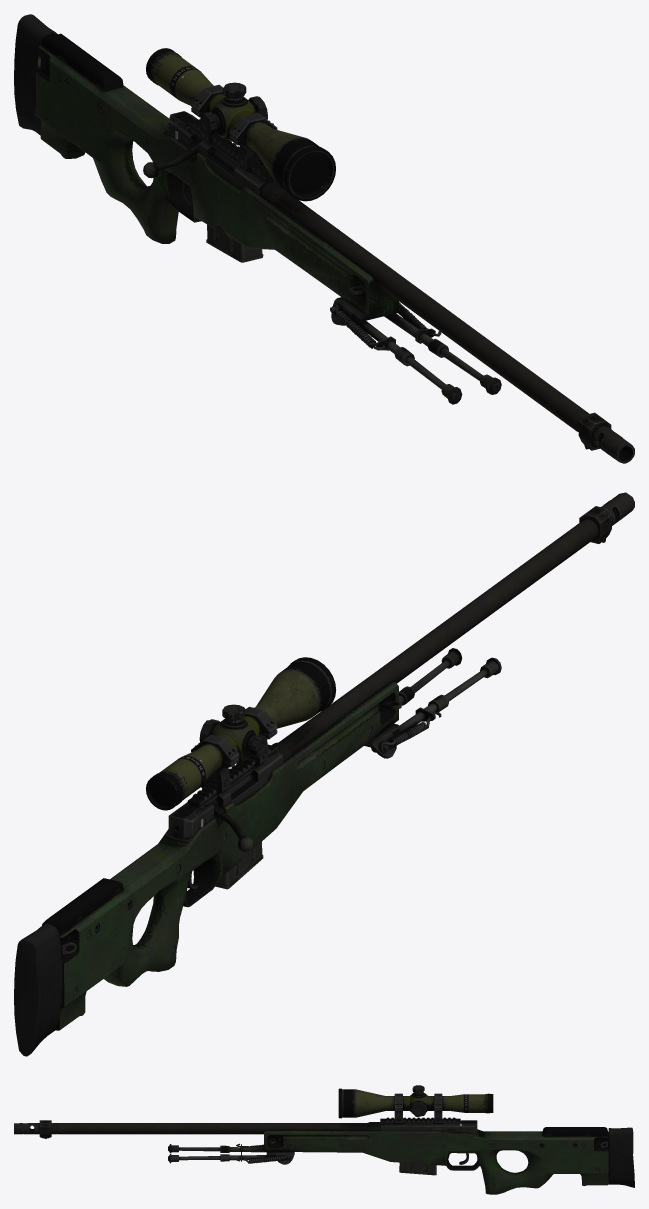
File: awp.glb
The picture shows the model from 3 angles, top to bottom: view 1: azimuth 30°, elevation 25°; view 2: azimuth 150°, elevation 25°; view 3: azimuth 270°, elevation 25°; orthographic projection. The views are drawn at different scales.
Parts seen in each view (by area): view 1: Object_2, Object_3; view 2: Object_2; view 3: Object_2.
Part boxes in pixels (x1=…): Object_2: x1=14, y1=14, x2=634, y2=463; Object_3: x1=290, y1=151, x2=328, y2=194; Object_2: x1=14, y1=492, x2=634, y2=1056; Object_2: x1=14, y1=1085, x2=634, y2=1194.
Size of the model in its own units: 4.54 by 10.1 by 53.8.
2 materials, 1 textured.
